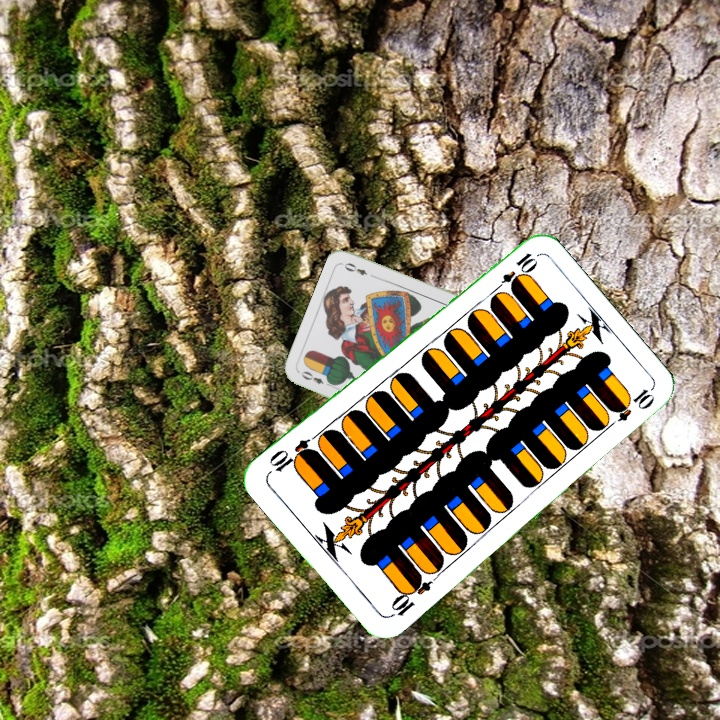E10: (385, 571, 434, 621), (489, 248, 539, 296)
EO: (297, 367, 336, 390)
